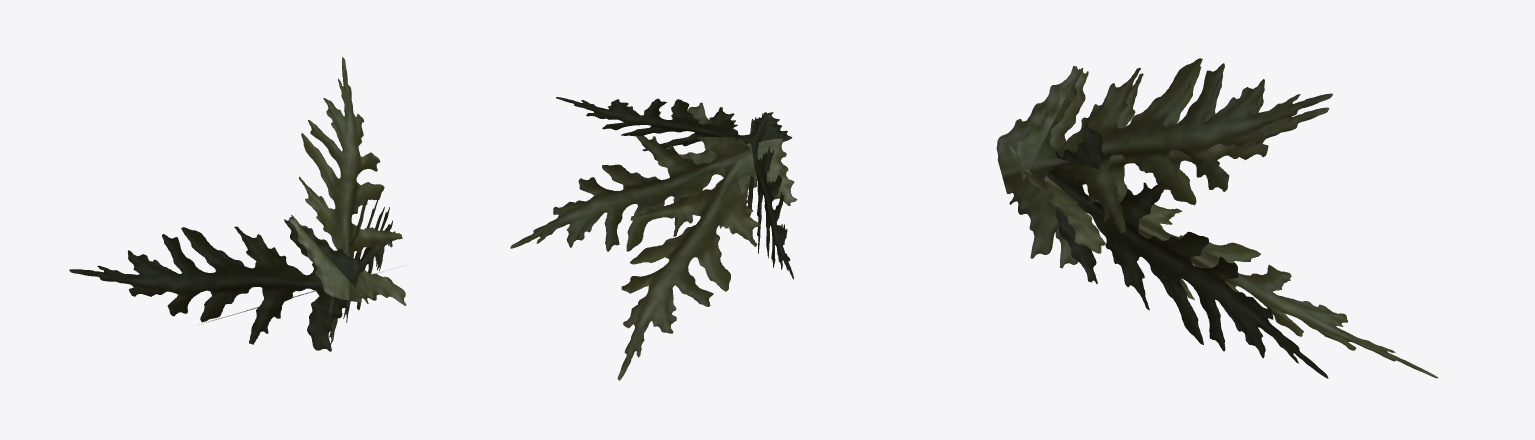
Rendered from MEP_RedFlower_04_S.fbx.
3 views of the same model, side by side, from view 1: azimuth 30°, elevation 25°; view 2: azimuth 150°, elevation 25°; view 3: azimuth 270°, elevation 25° (orthographic). The views are drawn at different scales.
Parts seen in each view (by area): view 1: MEP_RedFlower_04_S; view 2: MEP_RedFlower_04_S; view 3: MEP_RedFlower_04_S.
Boxes of the visible parts, left/top/right/bottom form: MEP_RedFlower_04_S: left=69, top=57, right=406, bottom=351; MEP_RedFlower_04_S: left=510, top=97, right=797, bottom=380; MEP_RedFlower_04_S: left=996, top=58, right=1438, bottom=378.
Bounding box in the file's own units: 0.5811 × 0.4486 × 0.5677.
